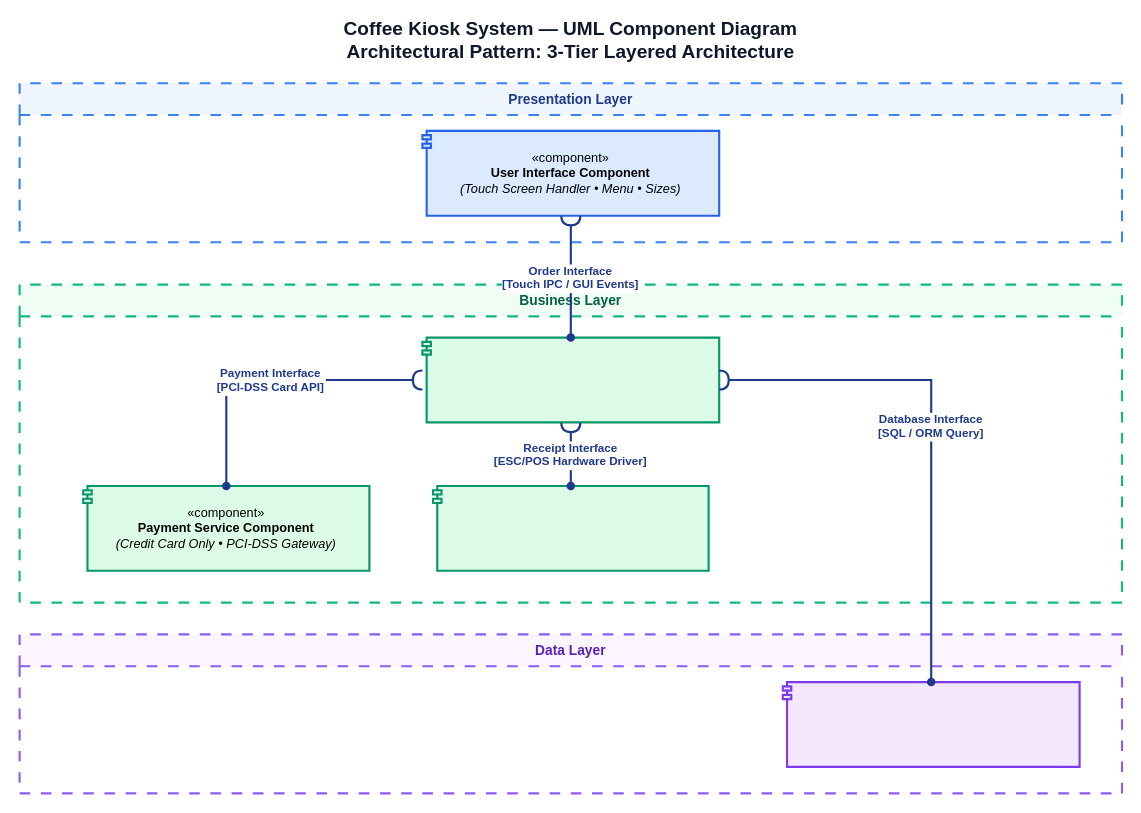
This 1141x813 diagram has some shape labels left out. The shapes that lost their labels are listed below. From the top down, each one's centre as x and y in pixels, then its label:
At pixel 570 379: "«component» Order Manager Component (Workflow • Pricing • State Machine)".
At pixel 570 527: "«component» Receipt Printer Component (ESC/POS Hardware Protocol • Formatter)".
At pixel 930 724: "«component» Database Component (Menu Catalog • Pricing • Orders Table)".
